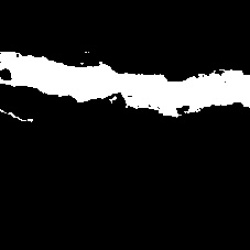crack: (2, 50, 243, 116), (2, 110, 35, 123)
